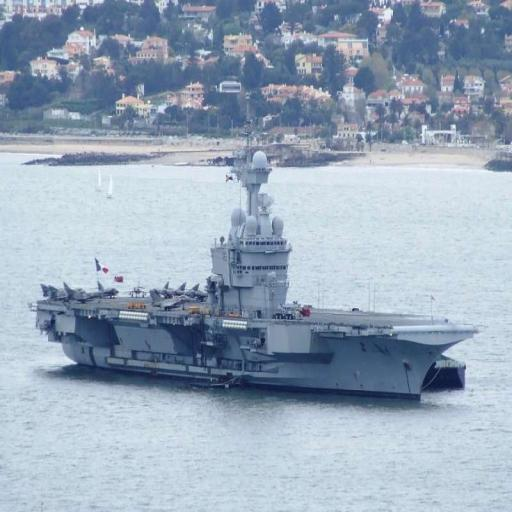Portanaves: (26, 134, 487, 407)
